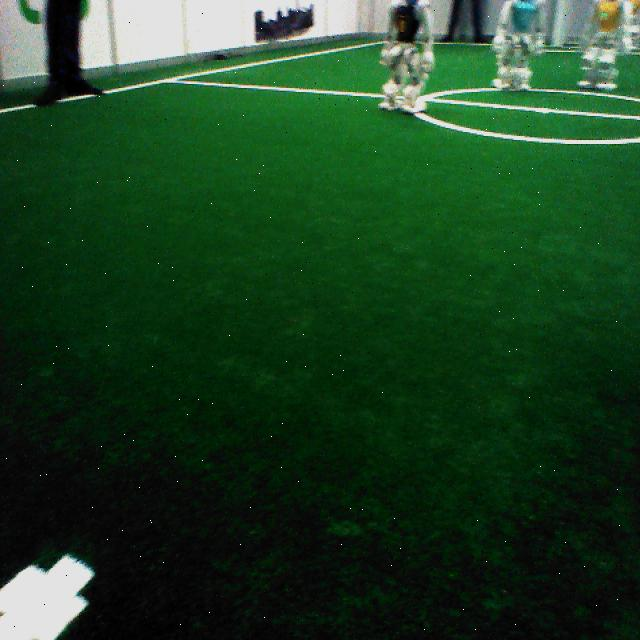goalpost: (549, 0, 565, 48)
